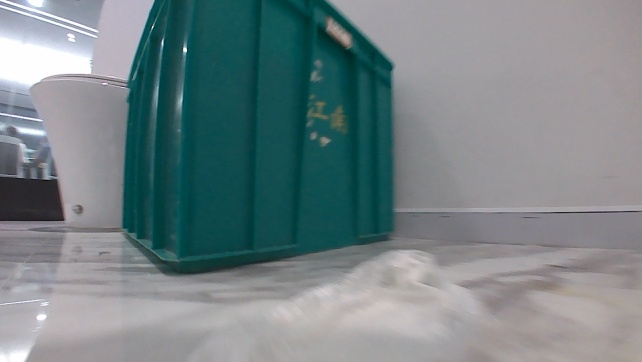toilet: (25, 65, 132, 235)
